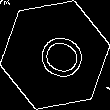O_W: (25, 26, 85, 84)
